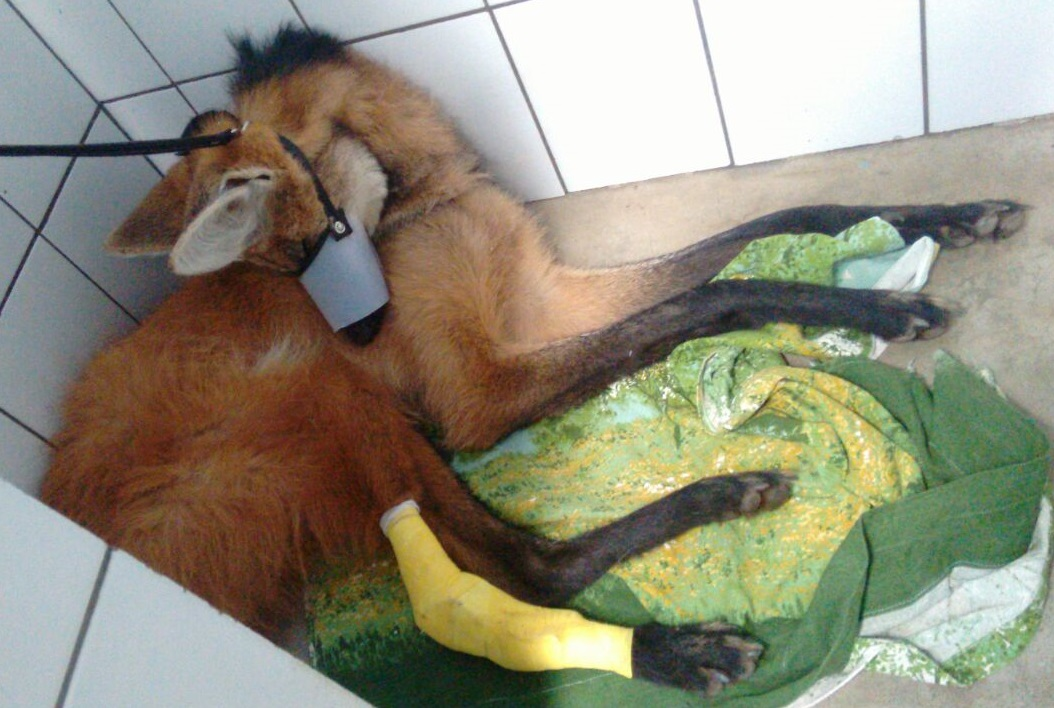LoboGuara: (85, 40, 916, 560)
